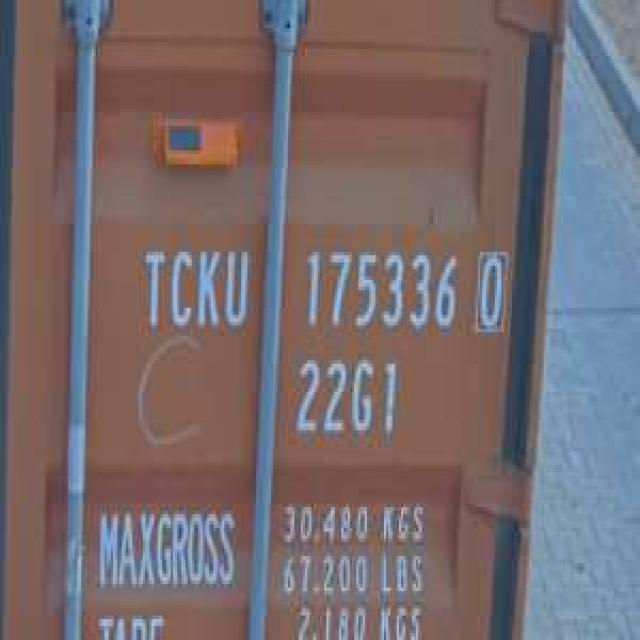dv: (469, 238, 512, 339)
owner: (136, 234, 252, 340)
serial: (296, 238, 461, 343)
size: (290, 350, 403, 448)
